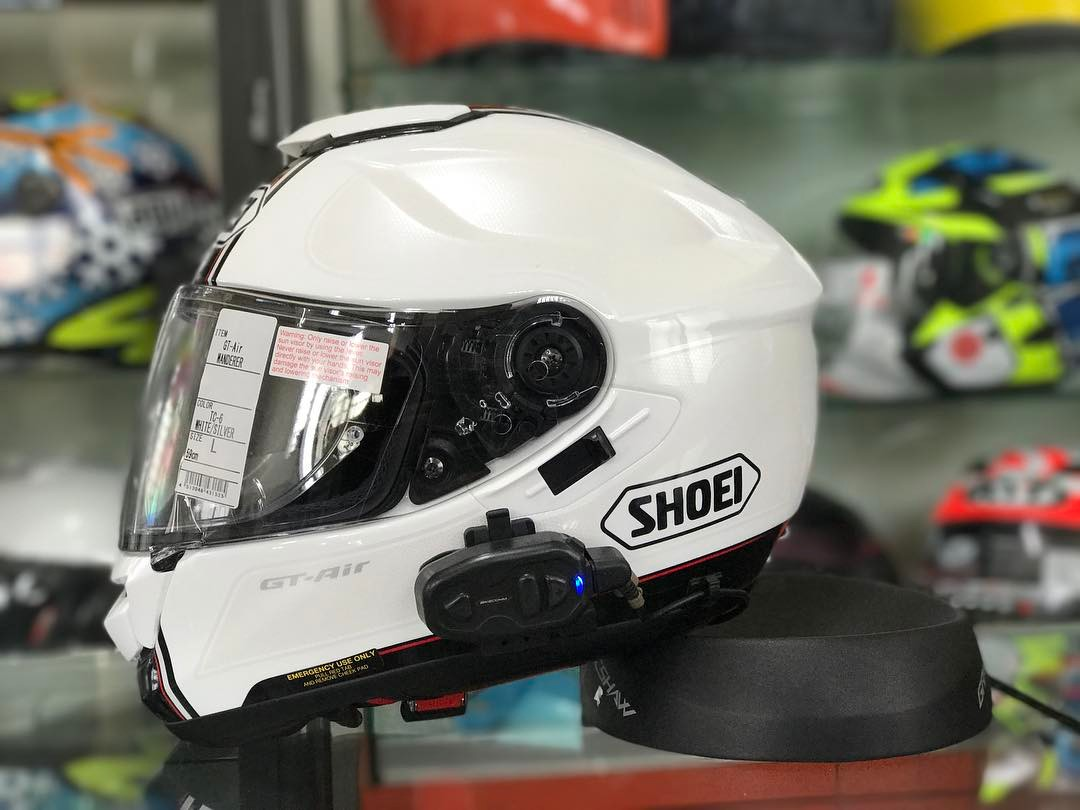helmet: (139, 111, 810, 656)
